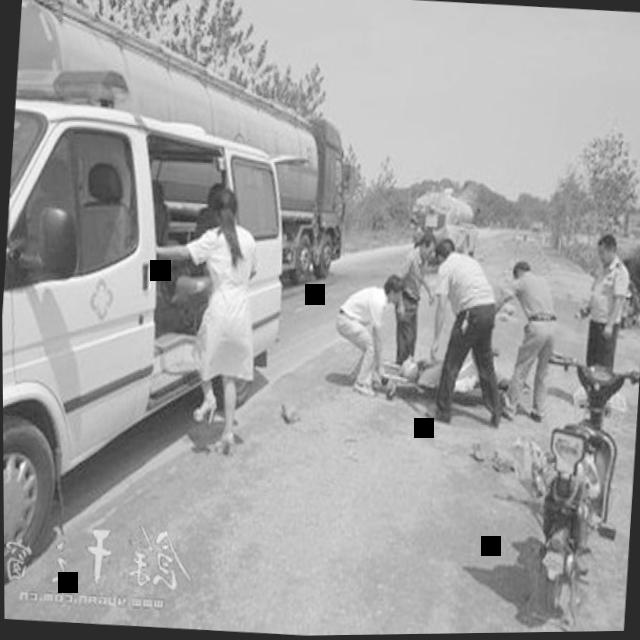Fall-Detected: (380, 328, 545, 431)
